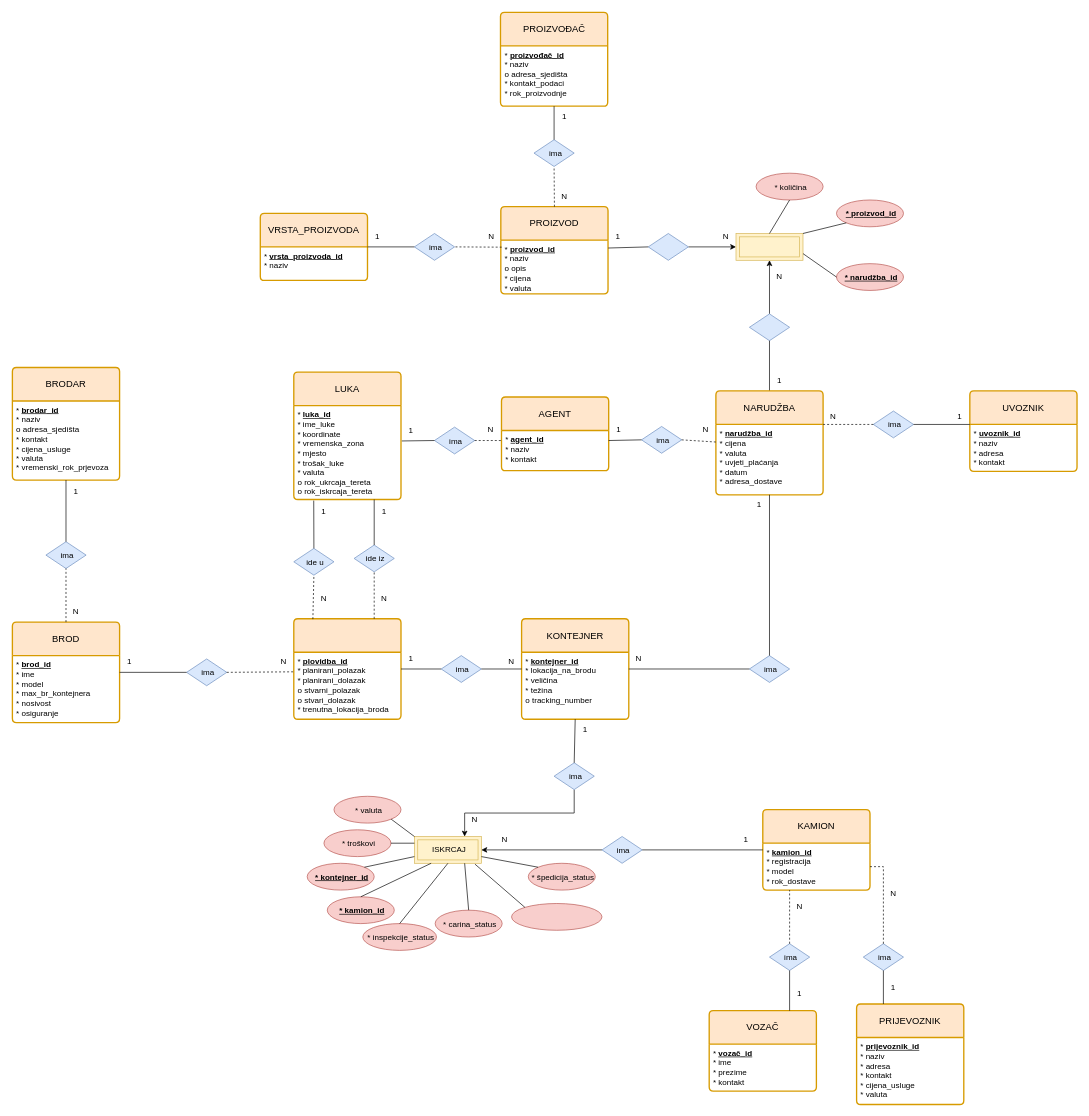
Some shapes in this 1089 by 1116 pixel diagram are drawn without their labels. Each missing label, with the box of its shape:
* termin_preuzimanja: (511, 903, 602, 930)
PLOVIDBE: (293, 618, 401, 720)
sadrži: (749, 313, 790, 341)
STAVKA: (735, 233, 803, 260)
čini: (648, 233, 688, 260)
